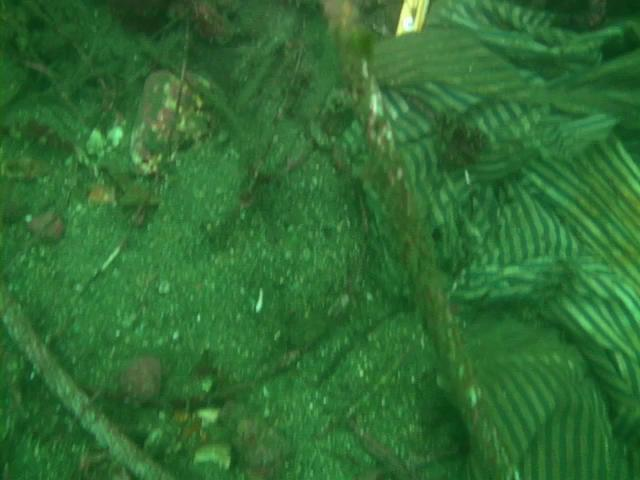rope: (0, 276, 177, 480)
